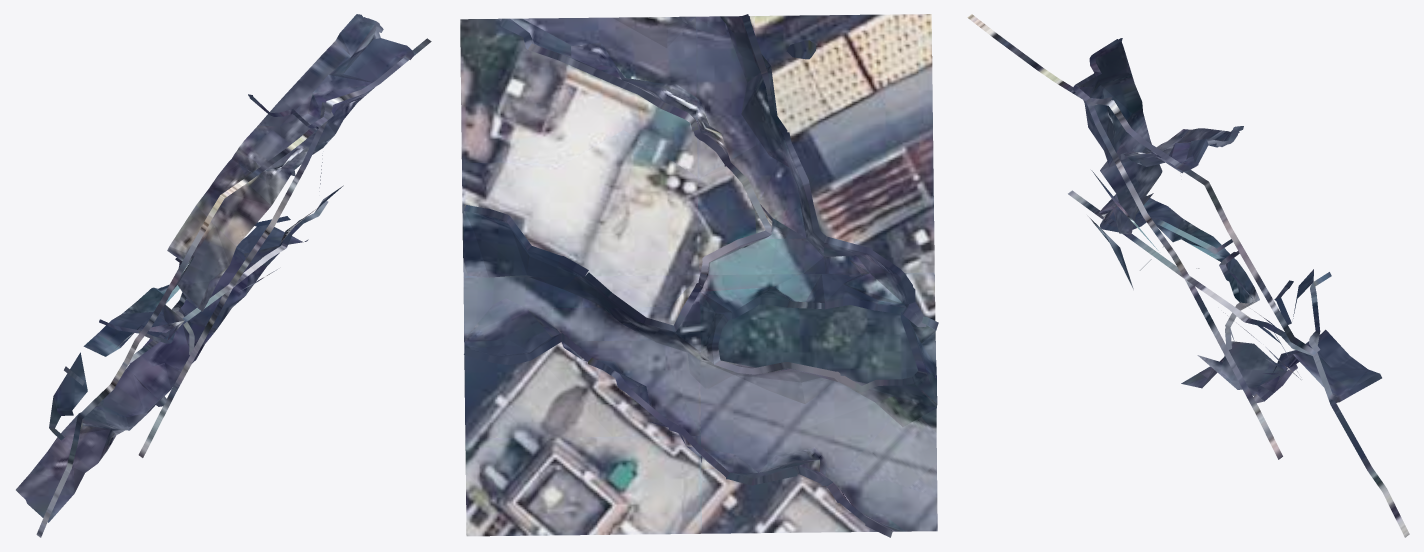
The picture shows the model from 3 angles, left to right: view 1: azimuth 30°, elevation 25°; view 2: azimuth 150°, elevation 25°; view 3: azimuth 270°, elevation 25°; orthographic projection. The views are drawn at different scales.
Size of the model in its own units: 38.76 by 36.58 by 33.4.
Materials: 1 (1 with a texture image).
